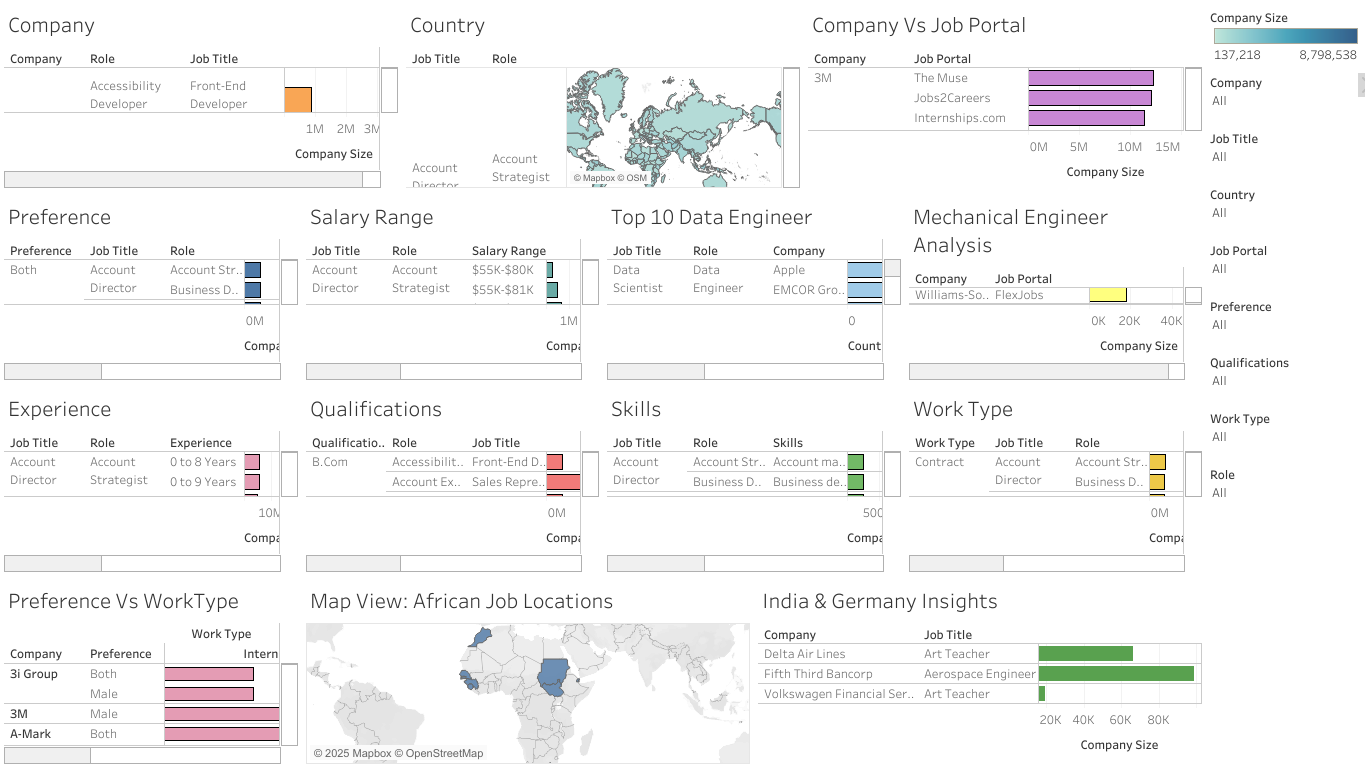

What the dashboard file says about the page in this screenshot:
{"tool":"tableau","page":{"name":"Job Portal","canvas":[1366,768],"ordinal":0},"visuals":[{"type":"worksheet","title":"Company","mark":"Automatic","rows":["Company","Role","Job Title"],"cols":["Company Size"],"box":[0,0,402,192]},{"type":"worksheet","title":"Country","mark":"Automatic","rows":["Job Title","Role"],"box":[402,0,402,192]},{"type":"worksheet","title":"Company Vs Job Portal","mark":"Bar","rows":["Company","Job Portal"],"cols":["Company Size"],"box":[804,0,402,192]},{"type":"legend","title":"Country","param":"[federated.1ugiptm06xnfa81c8airb05mn3t4].[sum:Company Size:qk]","box":[1206,0,160,65]},{"type":"filter","title":"Company","param":"[federated.1ugiptm06xnfa81c8airb05mn3t4].[none:Company:nk]","box":[1206,65,160,52]},{"type":"filter","title":"Company","param":"[federated.1ugiptm06xnfa81c8airb05mn3t4].[none:Job Title:nk]","box":[1206,117,160,52]},{"type":"filter","title":"Country","param":"[federated.1ugiptm06xnfa81c8airb05mn3t4].[none:Country:nk]","box":[1206,169,160,52]},{"type":"worksheet","title":"Preference","mark":"Automatic","rows":["Preference","Job Title","Role"],"cols":["Company Size"],"box":[0,192,301.5,192]},{"type":"worksheet","title":"Salary Range","mark":"Automatic","rows":["Job Title","Role","Salary Range"],"cols":["Company Size"],"box":[301.5,192,301.5,192]},{"type":"worksheet","title":"Top 10 Data Engineer","mark":"Automatic","rows":["Job Title","Role","Company"],"cols":["Job Title"],"box":[603,192,301.5,192]},{"type":"worksheet","title":"Mechanical Engineer Analysis","mark":"Automatic","rows":["Company","Job Portal"],"cols":["Company Size"],"box":[904.5,192,301.5,192]},{"type":"filter","title":"Company Vs Job Portal","param":"[federated.1ugiptm06xnfa81c8airb05mn3t4].[none:Job Portal:nk]","box":[1206,221,160,52]},{"type":"filter","title":"Preference","param":"[federated.1ugiptm06xnfa81c8airb05mn3t4].[none:Preference:nk]","box":[1206,273,160,52]},{"type":"filter","title":"Qualifications","param":"[federated.1ugiptm06xnfa81c8airb05mn3t4].[none:Qualifications:nk]","box":[1206,325,160,52]},{"type":"filter","title":"Work Type","param":"[federated.1ugiptm06xnfa81c8airb05mn3t4].[none:Work Type:nk]","box":[1206,377,160,52]},{"type":"worksheet","title":"Experience","mark":"Automatic","rows":["Job Title","Role","Experience"],"cols":["Company Size"],"box":[0,384,301.5,192]},{"type":"worksheet","title":"Qualifications","mark":"Automatic","rows":["Qualifications","Role","Job Title"],"cols":["Company Size"],"box":[301.5,384,301.5,192]},{"type":"worksheet","title":"Skills","mark":"Automatic","rows":["Job Title","Role","skills"],"cols":["Company Size"],"box":[603,384,301.5,192]},{"type":"worksheet","title":"Work Type","mark":"Automatic","rows":["Work Type","Job Title","Role"],"cols":["Company Size"],"box":[904.5,384,301.5,192]},{"type":"filter","title":"Company","param":"[federated.1ugiptm06xnfa81c8airb05mn3t4].[none:Role:nk]","box":[1206,429,160,52]},{"type":"worksheet","title":"Preference Vs WorkType","mark":"Bar","rows":["Company","Preference"],"cols":["Work Type"],"box":[0,576,301.5,192]},{"type":"worksheet","title":"Map View: African Job Locations","mark":"Multipolygon","rows":["latitude"],"cols":["longitude"],"box":[301.5,576,452.3,192]},{"type":"worksheet","title":"India & Germany Insights","mark":"Bar","rows":["Company","Job Title"],"cols":["Company Size"],"box":[753.8,576,452.2,192]}]}

Visuals, with their boxes in screenshot pixels (x1, y1, x2, y2), scaled from the page's 1366x768 canvas onto the 1365x767 screenshot:
"Company" worksheet: bbox=(0, 0, 402, 192)
"Country" worksheet: bbox=(402, 0, 803, 192)
"Company Vs Job Portal" worksheet (Bar marks): bbox=(803, 0, 1205, 192)
"Country" legend: bbox=(1205, 0, 1364, 65)
"Company" filter: bbox=(1205, 65, 1364, 117)
"Company" filter: bbox=(1205, 117, 1364, 169)
"Country" filter: bbox=(1205, 169, 1364, 221)
"Preference" worksheet: bbox=(0, 192, 301, 384)
"Salary Range" worksheet: bbox=(301, 192, 603, 384)
"Top 10 Data Engineer" worksheet: bbox=(603, 192, 904, 384)
"Mechanical Engineer Analysis" worksheet: bbox=(904, 192, 1205, 384)
"Company Vs Job Portal" filter: bbox=(1205, 221, 1364, 273)
"Preference" filter: bbox=(1205, 273, 1364, 325)
"Qualifications" filter: bbox=(1205, 325, 1364, 377)
"Work Type" filter: bbox=(1205, 377, 1364, 428)
"Experience" worksheet: bbox=(0, 384, 301, 575)
"Qualifications" worksheet: bbox=(301, 384, 603, 575)
"Skills" worksheet: bbox=(603, 384, 904, 575)
"Work Type" worksheet: bbox=(904, 384, 1205, 575)
"Company" filter: bbox=(1205, 428, 1364, 480)
"Preference Vs WorkType" worksheet (Bar marks): bbox=(0, 575, 301, 766)
"Map View: African Job Locations" worksheet (Multipolygon marks): bbox=(301, 575, 753, 766)
"India & Germany Insights" worksheet (Bar marks): bbox=(753, 575, 1205, 766)
